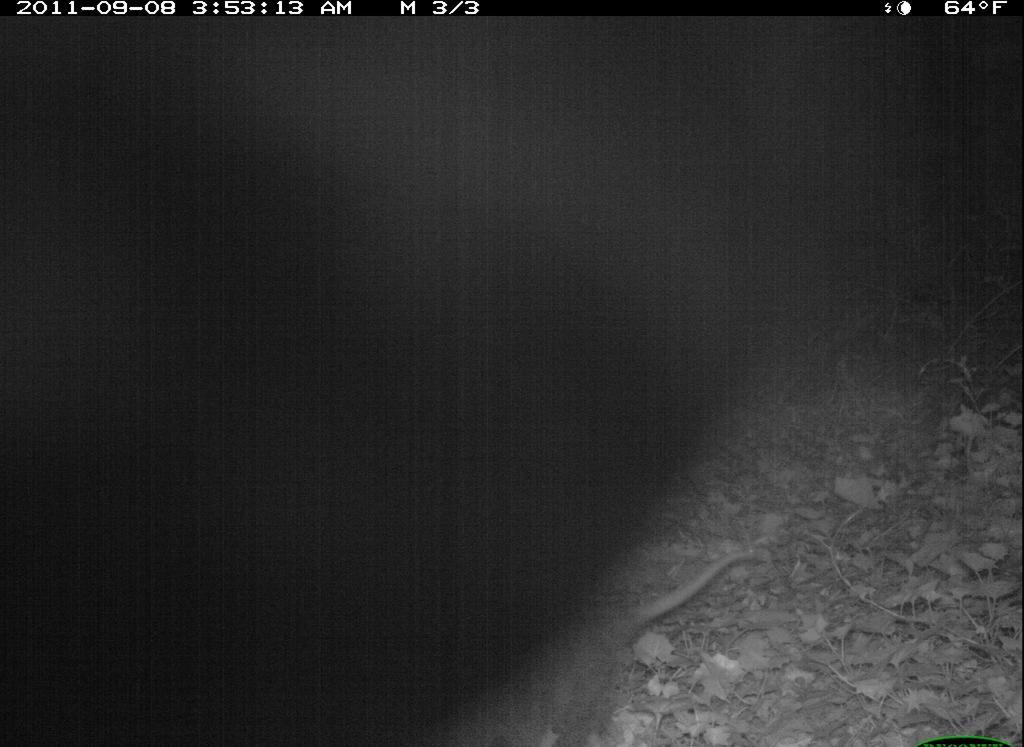opossum: (432, 548, 758, 747)
